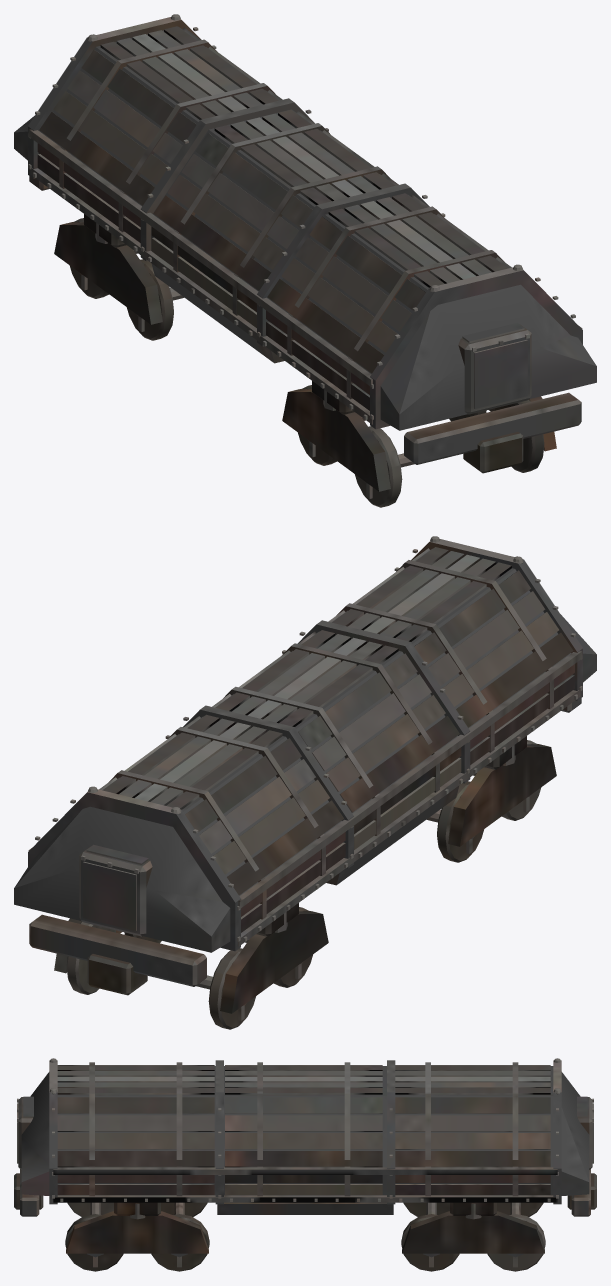
The model's file is cargo-wagon.glb.
3 renders of one model, top to bottom at view 1: azimuth 30°, elevation 25°; view 2: azimuth 150°, elevation 25°; view 3: azimuth 270°, elevation 25°, orthographic. The views are drawn at different scales.
Parts seen in each view (by area): view 1: body, anim_wheel_rail, anim_wheel_rail.002, anim_wheel_rail.001; view 2: body, anim_wheel_rail.003, anim_wheel_rail.001, anim_wheel_rail.002; view 3: body, anim_wheel_rail, anim_wheel_rail.001, anim_wheel_rail.002, anim_wheel_rail.003.
Boxes of the visible parts, x1,y1,x2,y2 form: body: [14, 14, 596, 491]; anim_wheel_rail: [355, 399, 544, 507]; anim_wheel_rail.002: [127, 259, 184, 340]; anim_wheel_rail.001: [298, 385, 486, 465]; body: [14, 536, 596, 1013]; anim_wheel_rail.003: [66, 921, 255, 1029]; anim_wheel_rail.001: [426, 781, 483, 862]; anim_wheel_rail.002: [124, 907, 312, 987]; body: [14, 1058, 596, 1253]; anim_wheel_rail: [65, 1202, 123, 1271]; anim_wheel_rail.001: [151, 1202, 209, 1271]; anim_wheel_rail.002: [401, 1202, 459, 1271]; anim_wheel_rail.003: [487, 1202, 545, 1271].
Bounding box in the file's own units: 2.15 × 2.25 × 6.94.
1 material, 1 textured.
